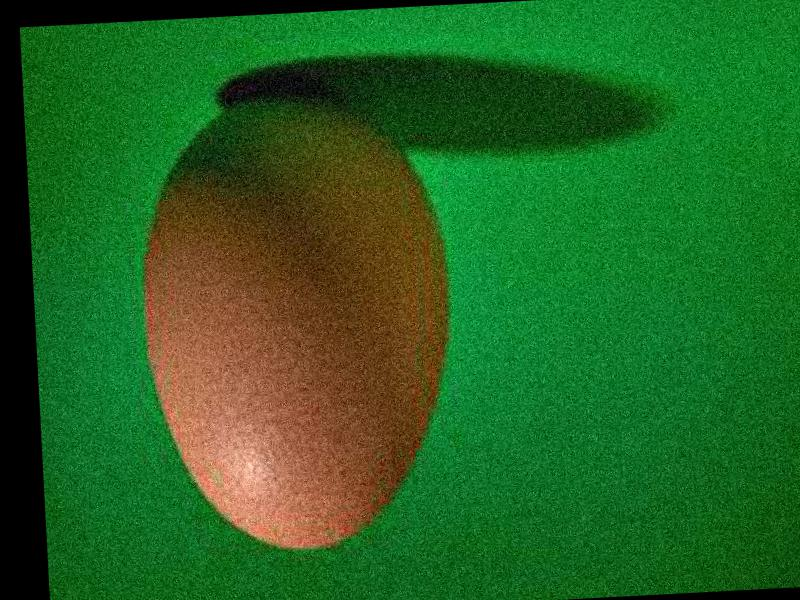Eggs: (131, 83, 460, 554)
